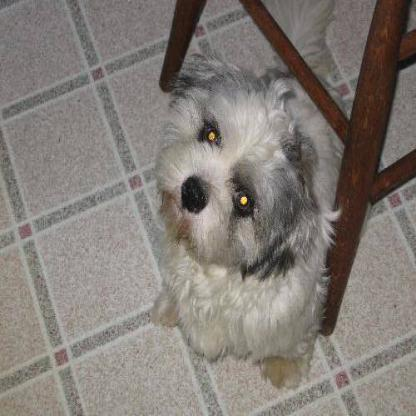dog: (148, 64, 373, 362)
